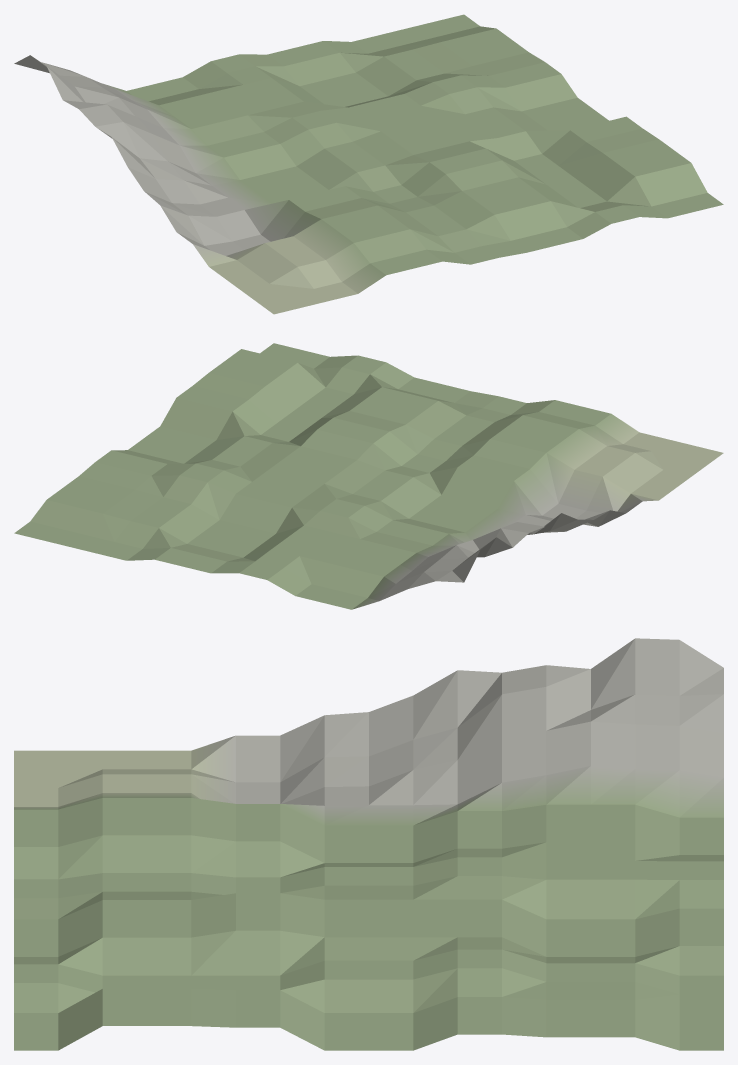
3 renders of one model, top to bottom at view 1: azimuth 30°, elevation 25°; view 2: azimuth 150°, elevation 25°; view 3: azimuth 270°, elevation 25°, orthographic. The views are drawn at different scales.
Bounding box in the file's own units: 32 × 6.4 × 32.
